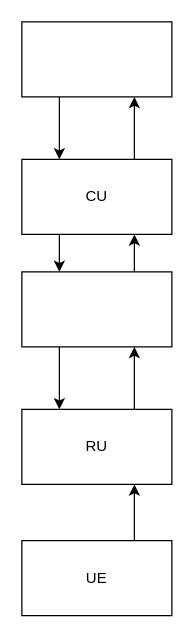
The diagram is 194 pixels wide and 638 high, and some of its shapes have lost their labels. The shapes that lost their labels are listed below. From the top down, each one's centre as x and y in pixels, then its label:
At (96,59): "Core".
At (96,309): "DU".
